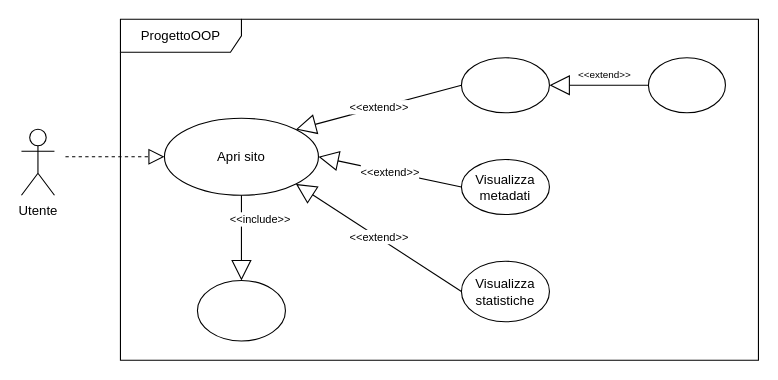
The diagram is 778 pixels wide and 380 high, and some of its shapes have lost their labels. Here are the shapes that lost their labels. From the top down, the box of each, then its label:
(460, 57, 549, 113): Visualizza dati
(647, 57, 725, 113): Filtra
(196, 279, 285, 341): Download file
